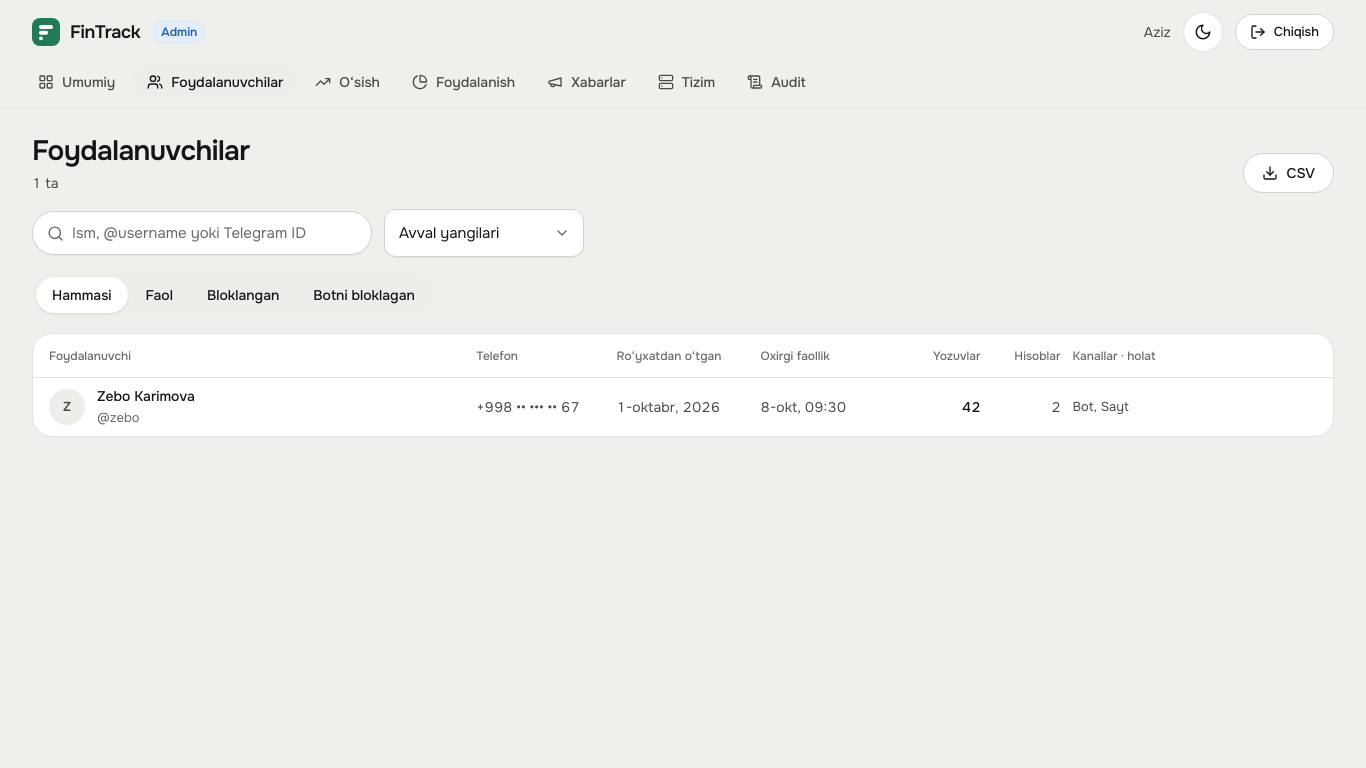
Test case: Admin panel pages › users: opens a person, bans them with a reason and shows the result
Click the text "Zebo Karimova" at (146, 396), box [97,385,195,407]
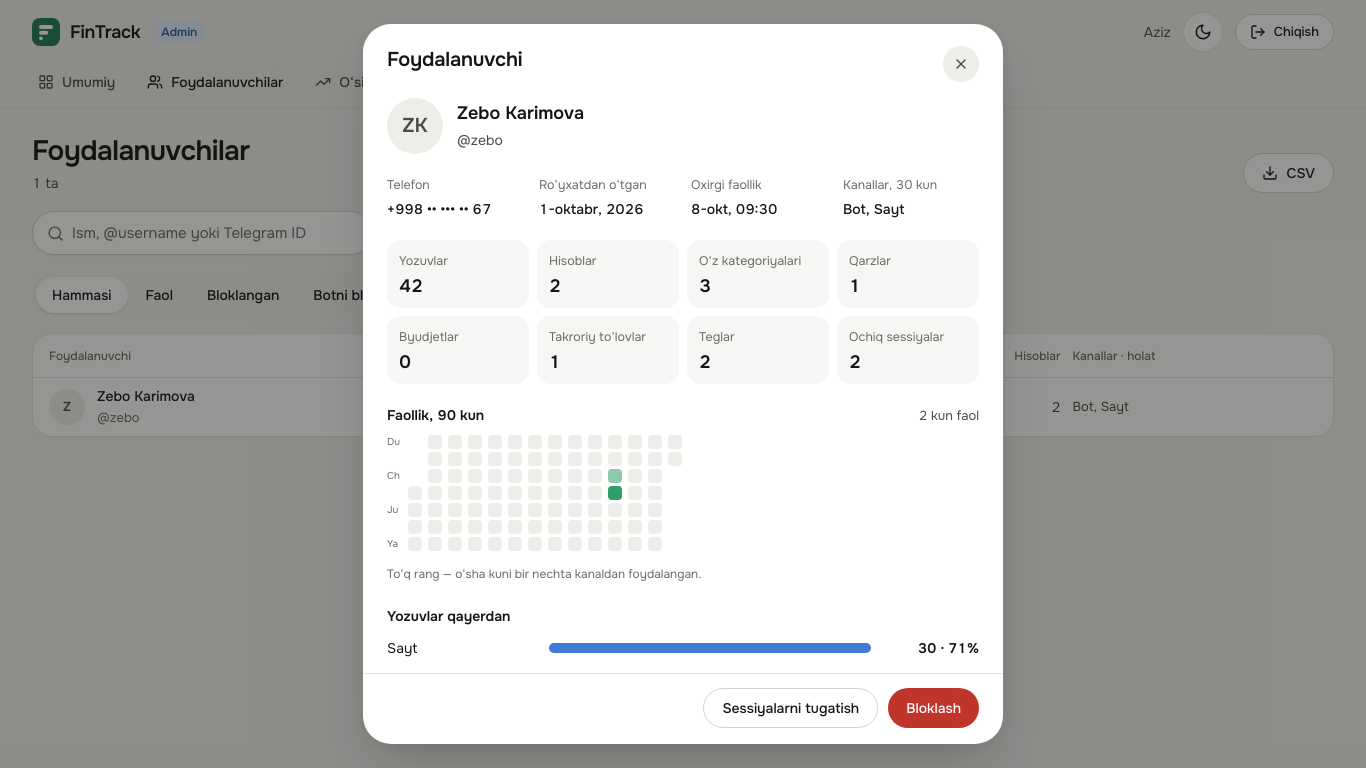
Check: the text "O‘z kategoriyalari" is shown, box [699,250,817,272]
Check: the picture named "So‘nggi 90 kundan 2 kunida faol" is shown, box [387,435,682,551]
Click the button "Bloklash" at (934, 708), box [888,688,979,728]
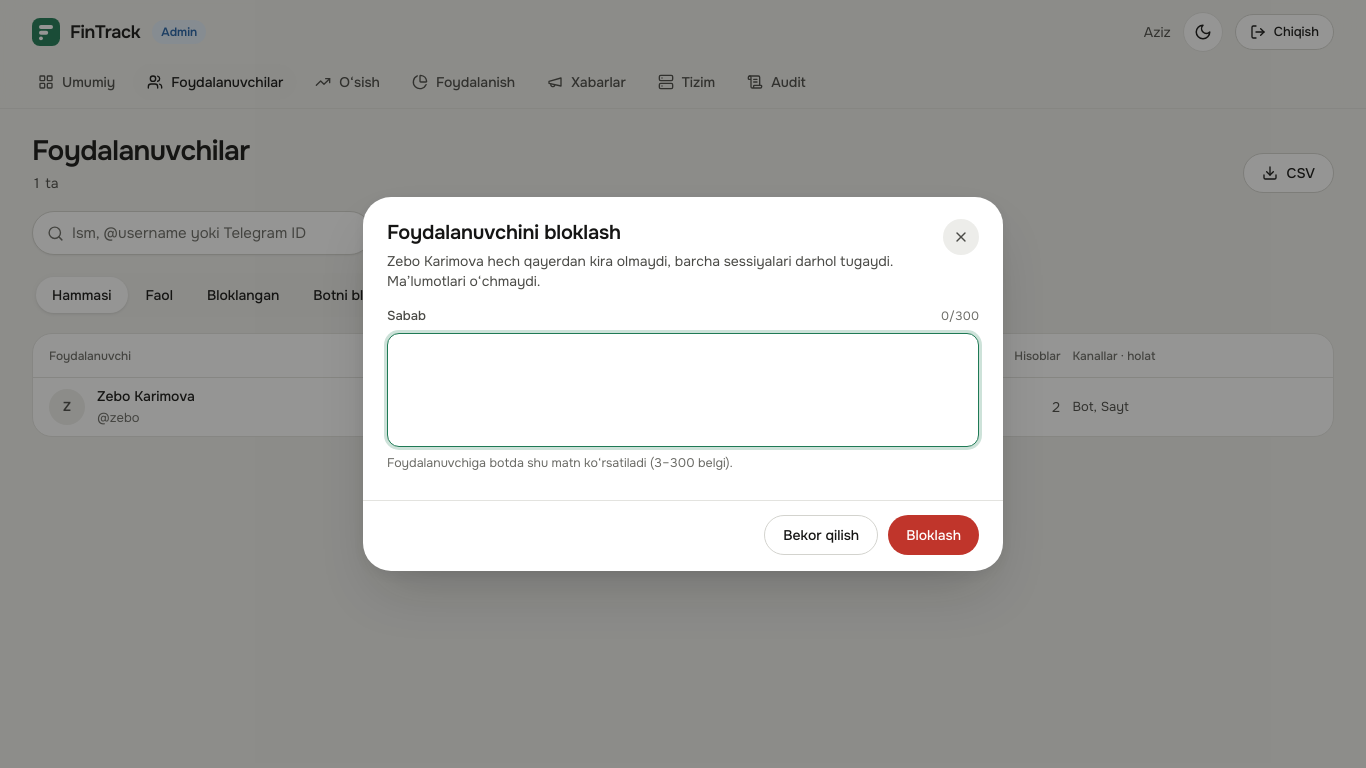
Click the button "Bloklash" at (934, 535), box [888,515,979,555]
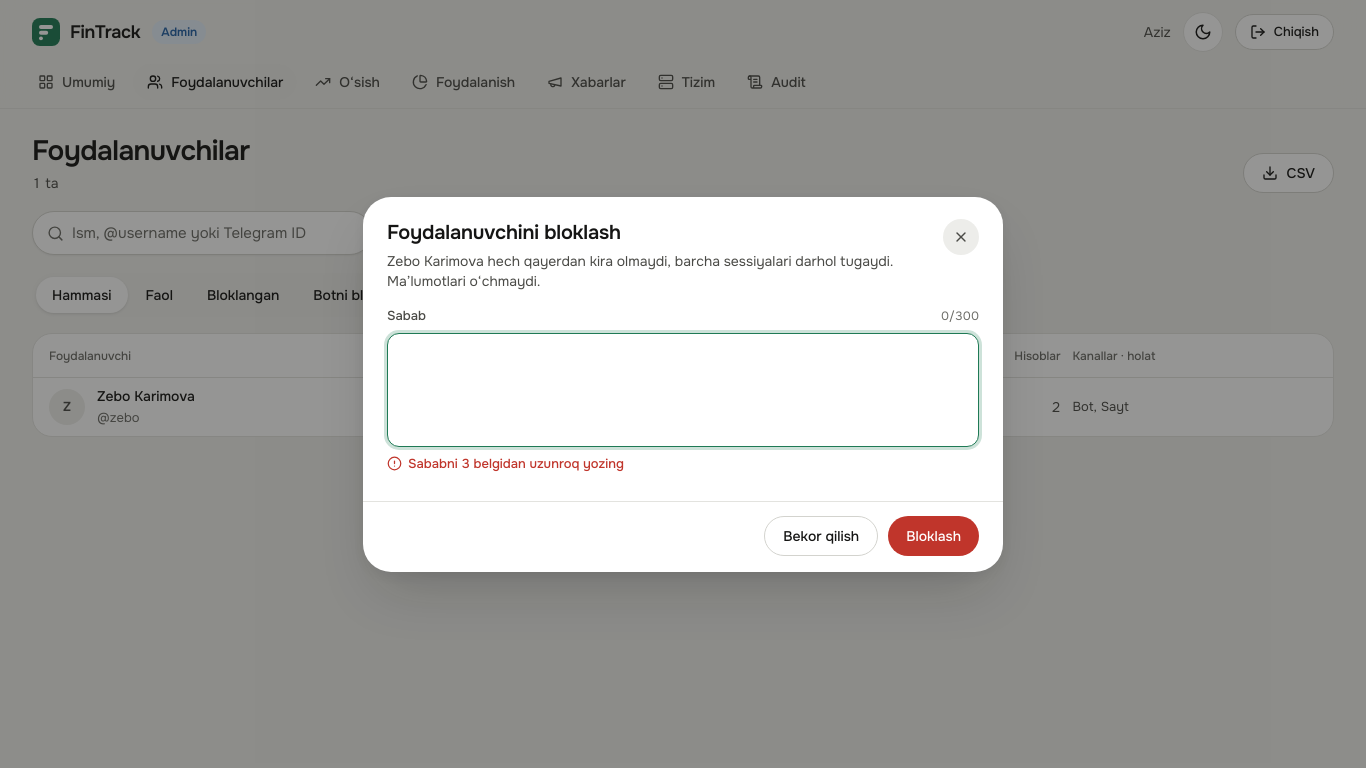
Check: the text "Sababni 3 belgidan uzunroq yozing" is shown, box [408,454,624,472]
Type "Spam yozuvlar" into the text box labelled "Sabab" at (683, 390), box [387,332,979,446]
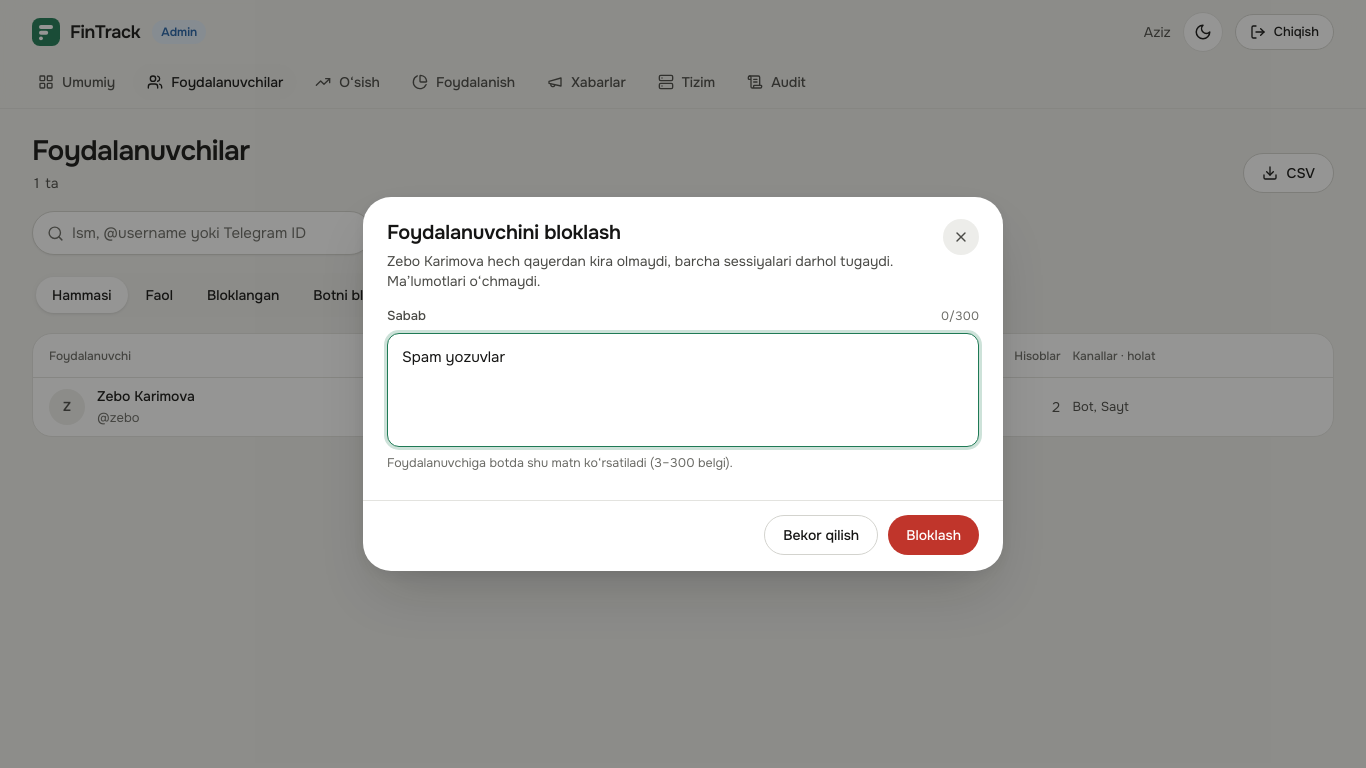
Click the button "Bloklash" at (934, 535), box [888,515,979,555]
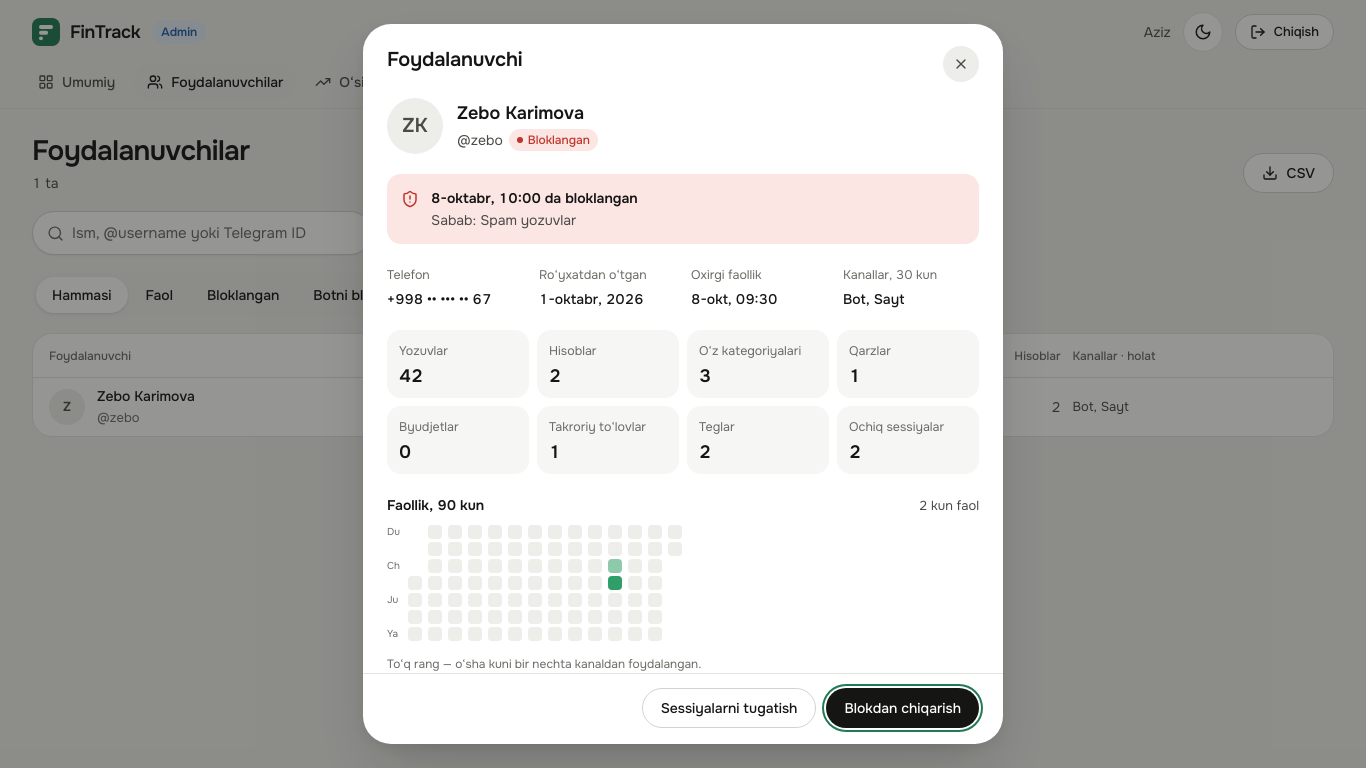
Check: the text "Sabab: Spam yozuvlar" is shown, box [431,211,576,229]
Check: the button "Blokdan chiqarish" is shown, box [826,688,979,728]
